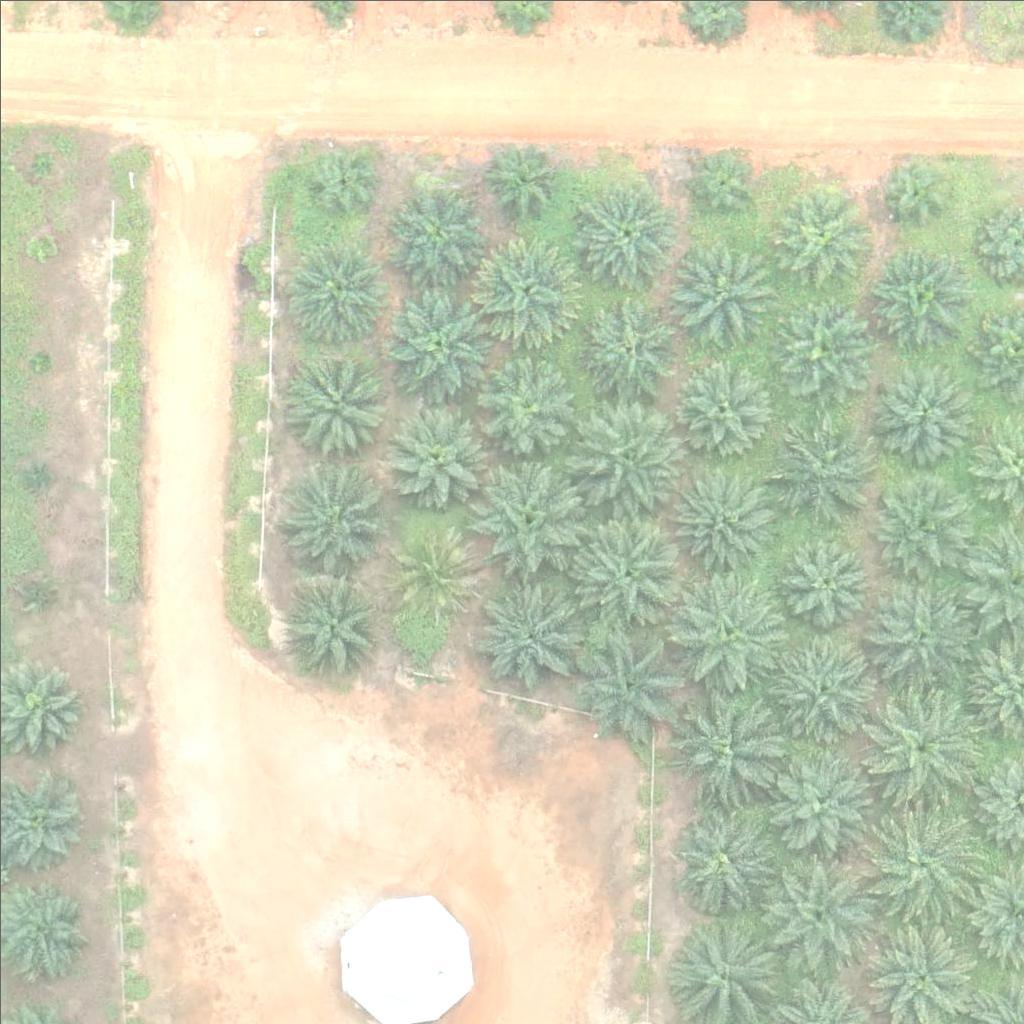Kelapa_Sawit: (467, 576, 580, 690), (469, 460, 582, 574), (569, 625, 682, 739), (380, 288, 493, 401), (864, 687, 977, 800), (865, 582, 978, 695), (761, 854, 873, 968), (570, 519, 682, 633), (667, 686, 779, 800), (468, 227, 580, 340), (869, 807, 981, 920), (273, 462, 385, 575), (573, 395, 685, 508), (670, 573, 782, 686), (766, 628, 878, 741), (764, 743, 876, 856), (283, 574, 383, 675), (386, 182, 486, 283), (577, 291, 677, 392), (573, 184, 673, 285), (671, 468, 771, 569), (670, 355, 770, 456), (670, 246, 770, 347), (771, 423, 871, 524), (769, 297, 869, 398), (769, 185, 869, 286), (863, 473, 963, 574), (869, 365, 969, 466), (868, 243, 968, 344), (671, 808, 771, 908), (288, 355, 388, 455), (283, 241, 383, 341), (382, 402, 482, 502), (476, 352, 576, 452), (389, 524, 477, 612), (782, 534, 869, 622), (302, 143, 377, 219), (876, 151, 951, 227), (484, 138, 559, 213), (680, 144, 755, 219), (23, 577, 48, 602), (23, 464, 48, 489), (27, 346, 52, 371), (31, 234, 56, 259), (28, 150, 53, 175)
